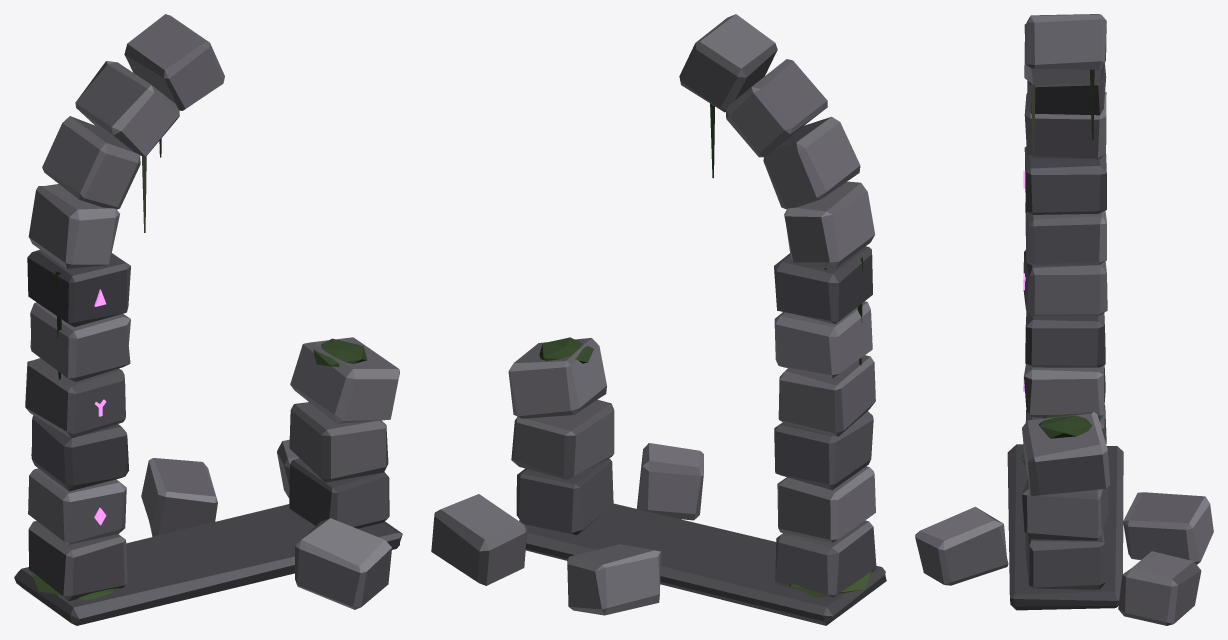
File: ruin_arch.glb
3 renders of one model, left to right at view 1: azimuth 30°, elevation 25°; view 2: azimuth 150°, elevation 25°; view 3: azimuth 270°, elevation 25°, orthographic. The views are drawn at different scales.
Parts seen in each view (by area): view 1: RuinArch; view 2: RuinArch; view 3: RuinArch.
Part boxes in pixels (<box>): RuinArch: <box>14,14,402,625</box>; RuinArch: <box>431,14,886,625</box>; RuinArch: <box>915,14,1213,625</box>.
Bounding box in the file's own units: 2.17 × 3.06 × 1.59.
